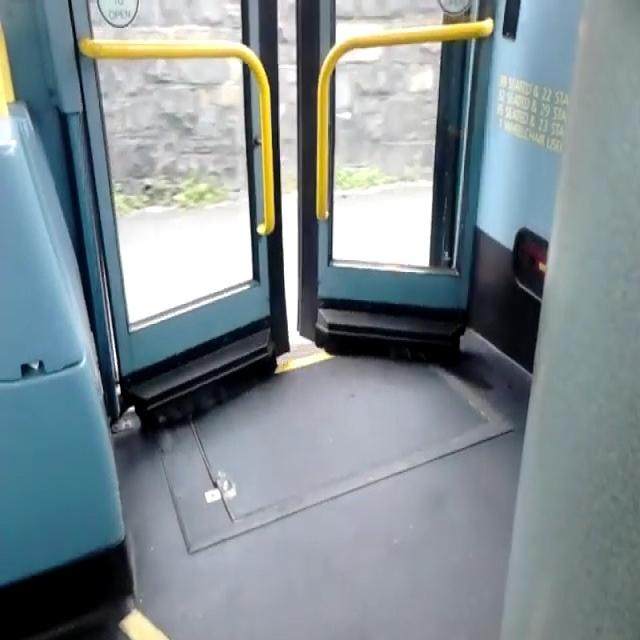bus-door: (43, 0, 498, 400)
